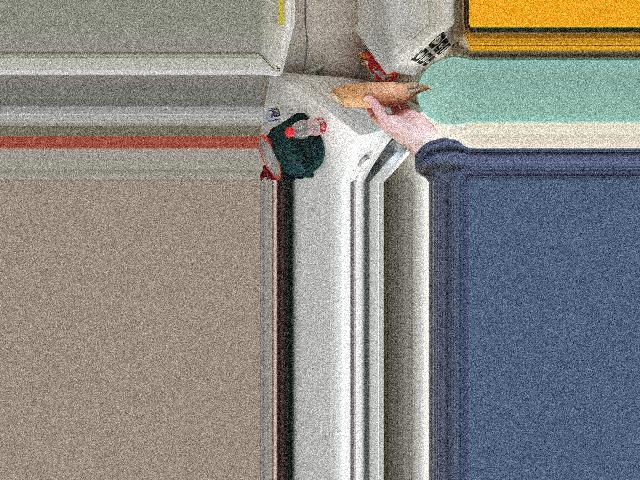sweet_potato: (337, 80, 432, 113)
